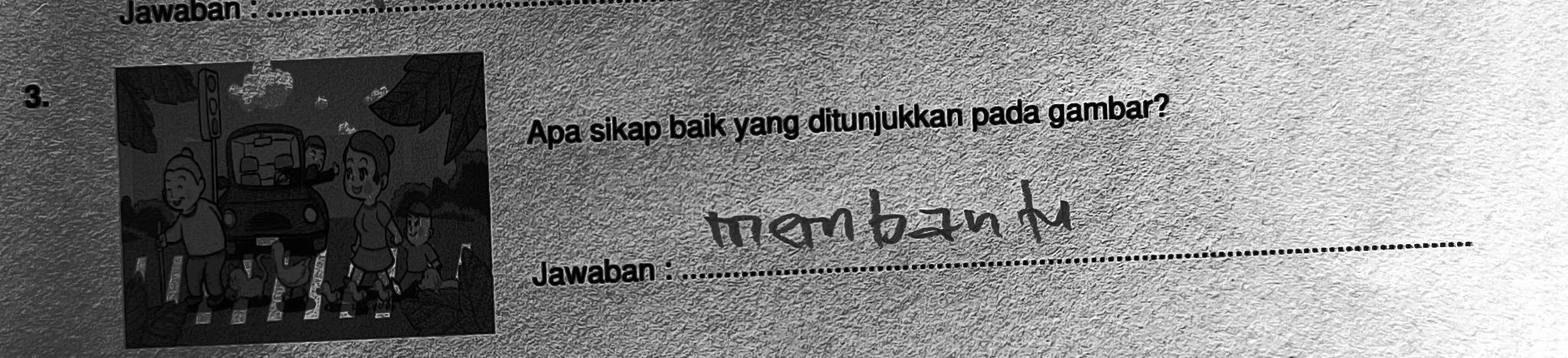jawaban: (704, 166, 1088, 269)
